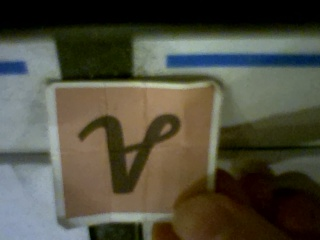A: (55, 87, 214, 215)
